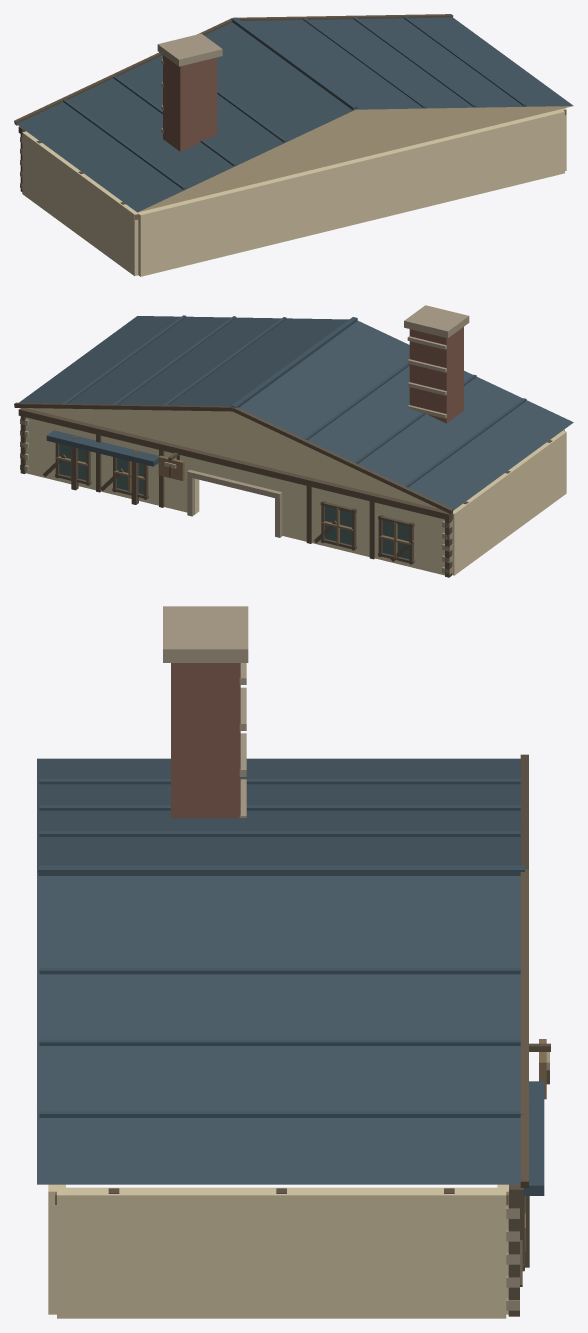
Rendered from WalkTown_Forge_Cover.fbx.
3 views of the same model, one above another, from view 1: azimuth 30°, elevation 25°; view 2: azimuth 150°, elevation 25°; view 3: azimuth 270°, elevation 25° (orthographic). The views are drawn at different scales.
Visible parts, largest first — view 1: WalkTown_Forge_Cover; view 2: WalkTown_Forge_Cover; view 3: WalkTown_Forge_Cover.
Part boxes in pixels (x1,y1,x2,y2): WalkTown_Forge_Cover: (14, 14, 573, 276); WalkTown_Forge_Cover: (14, 305, 573, 577); WalkTown_Forge_Cover: (37, 606, 550, 1318).
Bounding box in the file's own units: 15.97 × 6.32 × 8.13.
